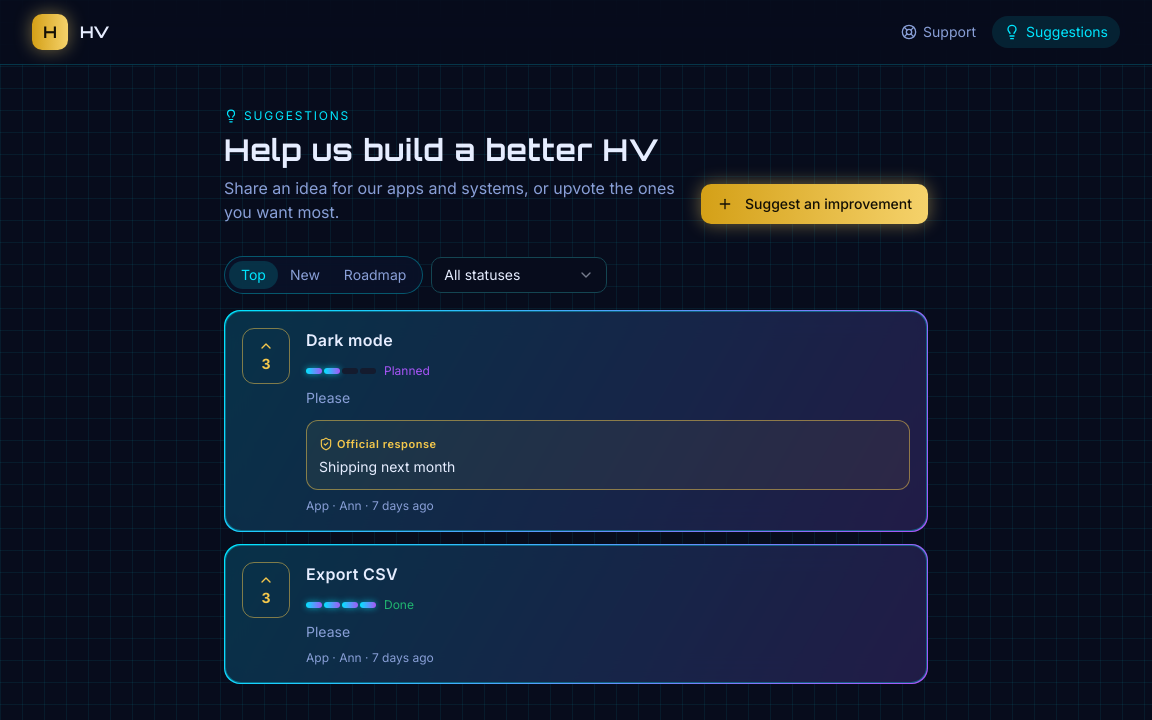
Test: Suggestions v2 › groups suggestions into roadmap columns
Check: the heading "Dark mode" is shown, box [306,330,393,350]
Click the button "Roadmap" at (375, 275), box [332,261,418,289]
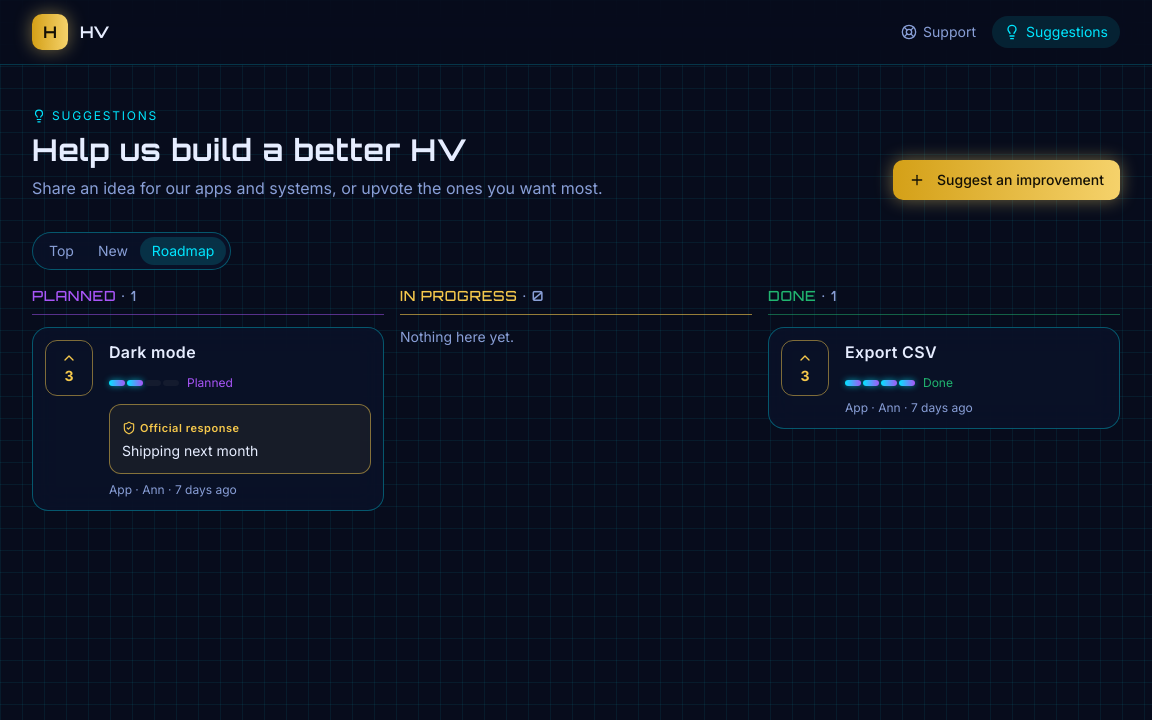
Check: the element "PLANNED" does not show "Export CSV", box [32,286,384,511]
Check: the element "PLANNED" shows "Dark mode", box [109,342,196,362]
Check: the element "DONE" shows "Export CSV", box [845,342,937,362]
